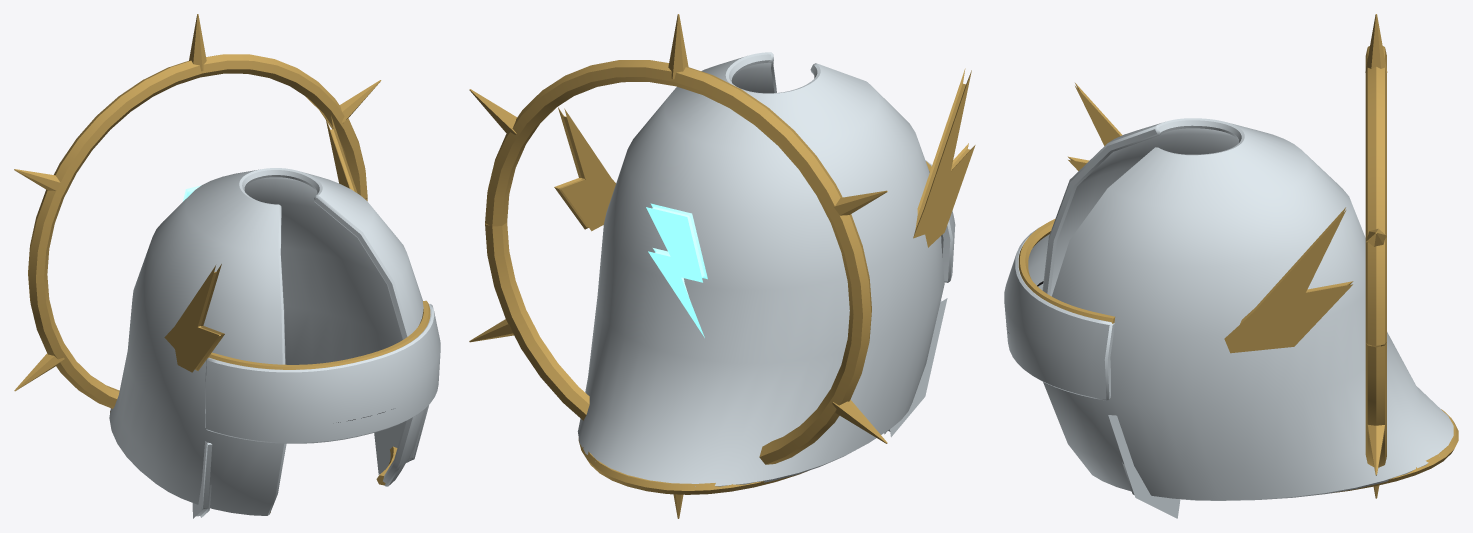
Rendered from boss_truth_of_raikuru_helm.glb.
3 views of the same model, side by side, from view 1: azimuth 30°, elevation 25°; view 2: azimuth 150°, elevation 25°; view 3: azimuth 270°, elevation 25° (orthographic). The views are drawn at different scales.
Visible parts, largest first — view 1: boss_truth_of_raikuru_helm; view 2: boss_truth_of_raikuru_helm; view 3: boss_truth_of_raikuru_helm.
Part boxes in pixels (x1,y1,x2,y2): boss_truth_of_raikuru_helm: [14, 14, 440, 518]; boss_truth_of_raikuru_helm: [469, 14, 975, 518]; boss_truth_of_raikuru_helm: [1004, 14, 1458, 518].
Size of the model in its own units: 0.5031 by 0.58 by 0.4933.
